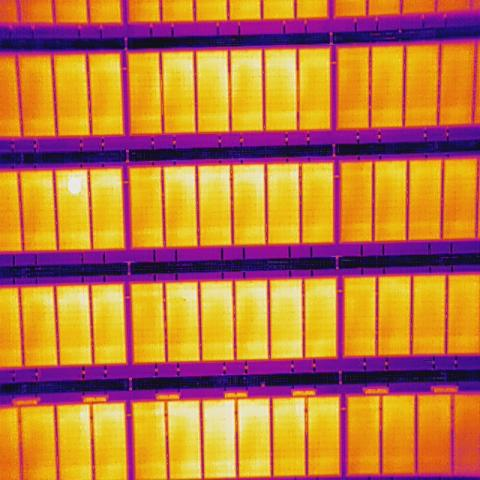fault: (66, 174, 82, 196)
